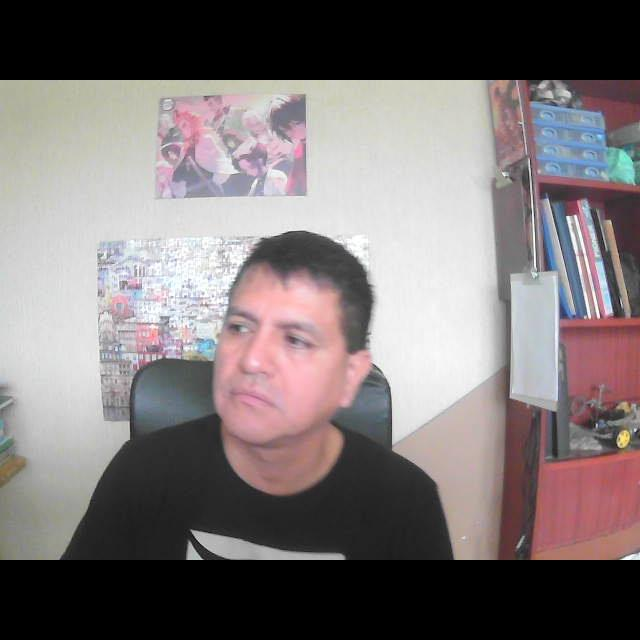cesar: (193, 220, 385, 504)
